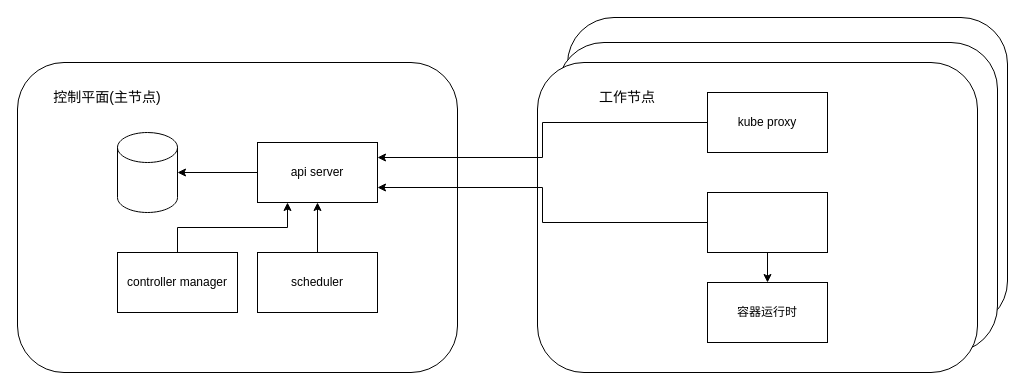
Some shapes in this 1025 by 390 pixel diagram are drawn without their labels. Here are the shapes that lost their labels. From the top down, the centre of each, then its label:
At [147,172]: "etcd".
At [767,222]: "kubelet".
